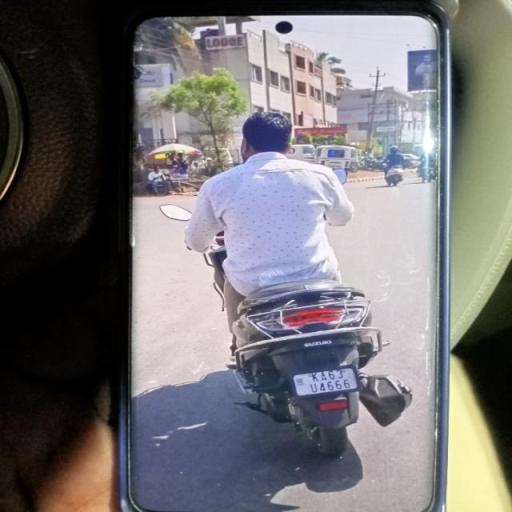bike: (156, 108, 415, 458)
numberplate: (288, 360, 366, 399)
withouthelmet: (244, 112, 290, 154)
